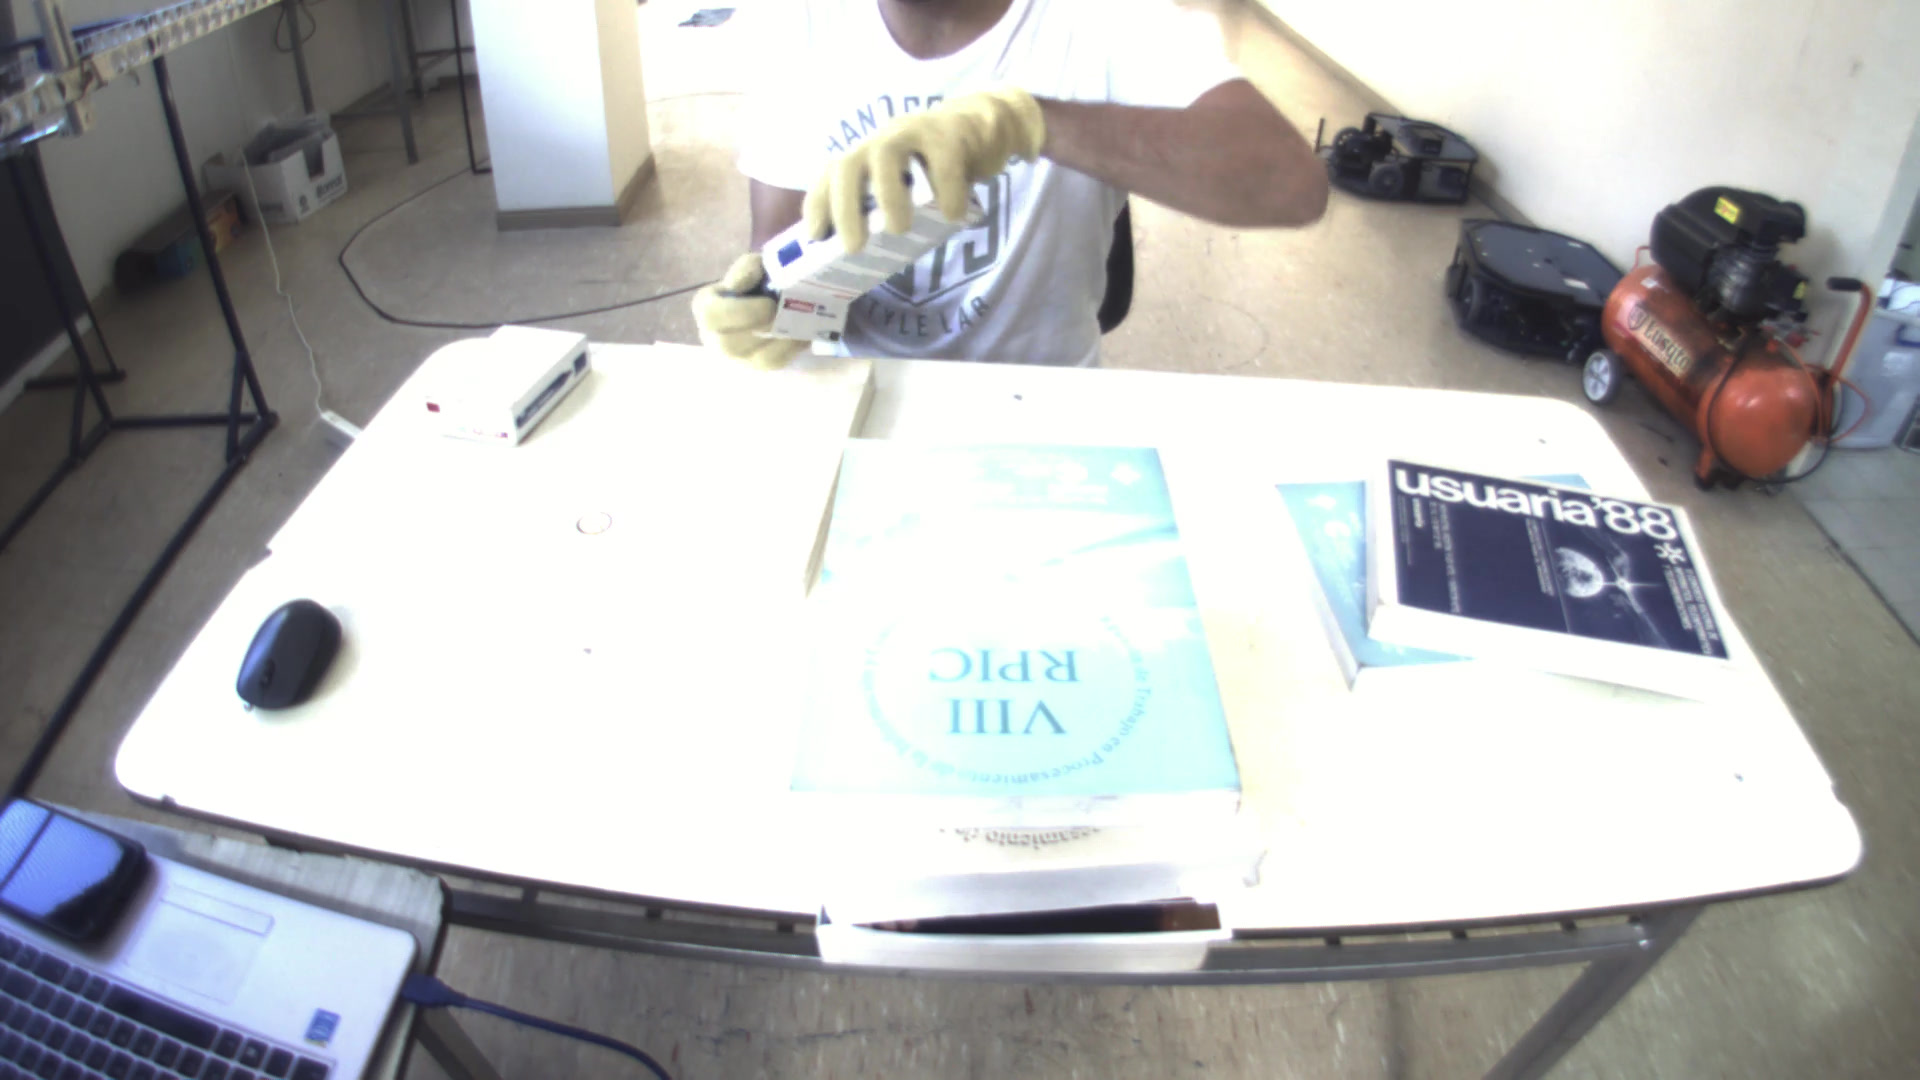hand: (795, 76, 1054, 245), (688, 249, 786, 365)
